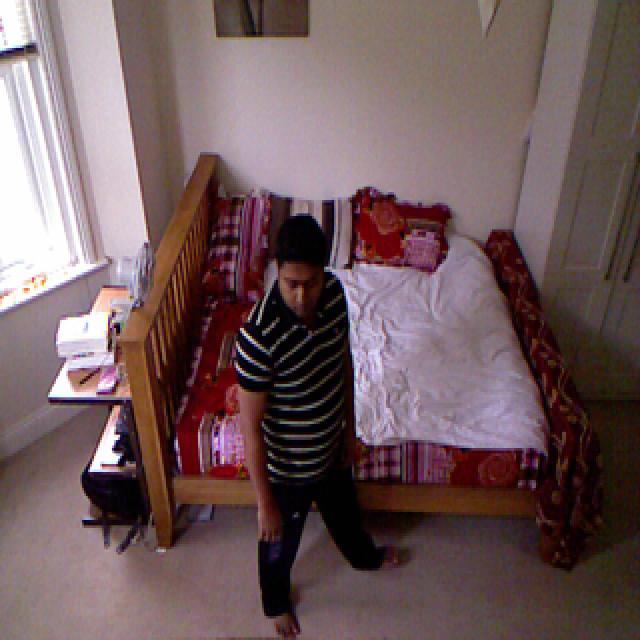standing: (233, 210, 387, 631)
